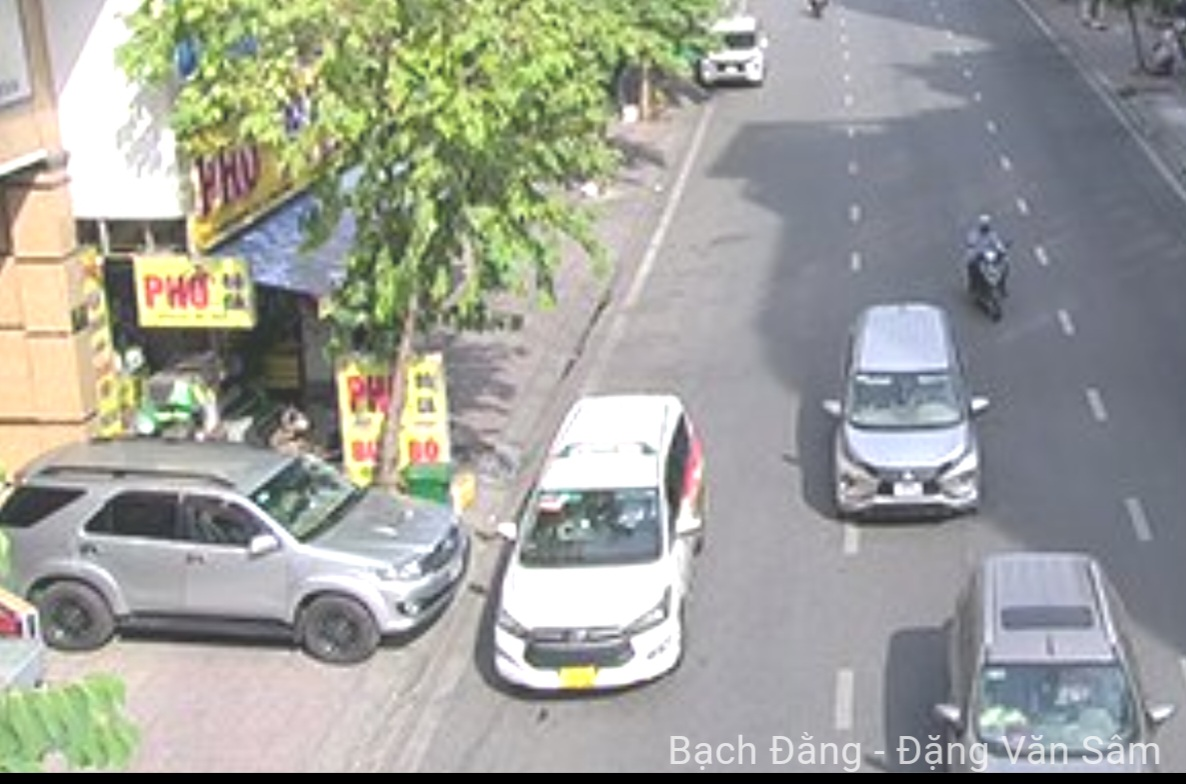car: (484, 386, 701, 687), (946, 556, 1159, 783), (825, 295, 992, 531), (700, 14, 766, 85)
